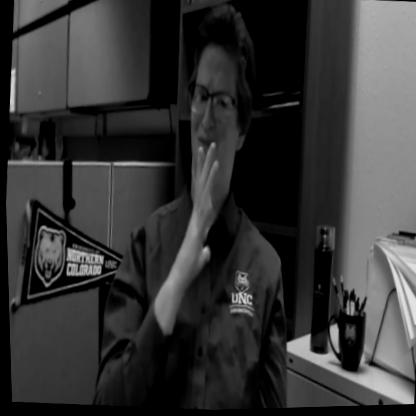Talk: (164, 0, 268, 292)
